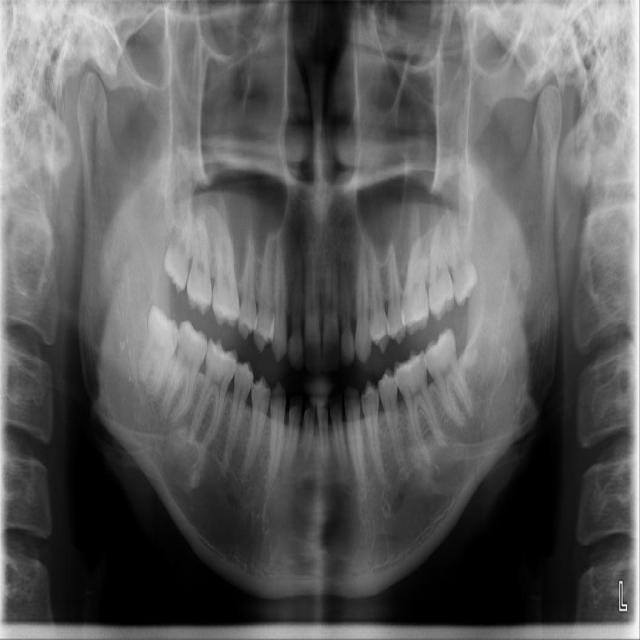impacted tooth: (139, 307, 179, 396)
